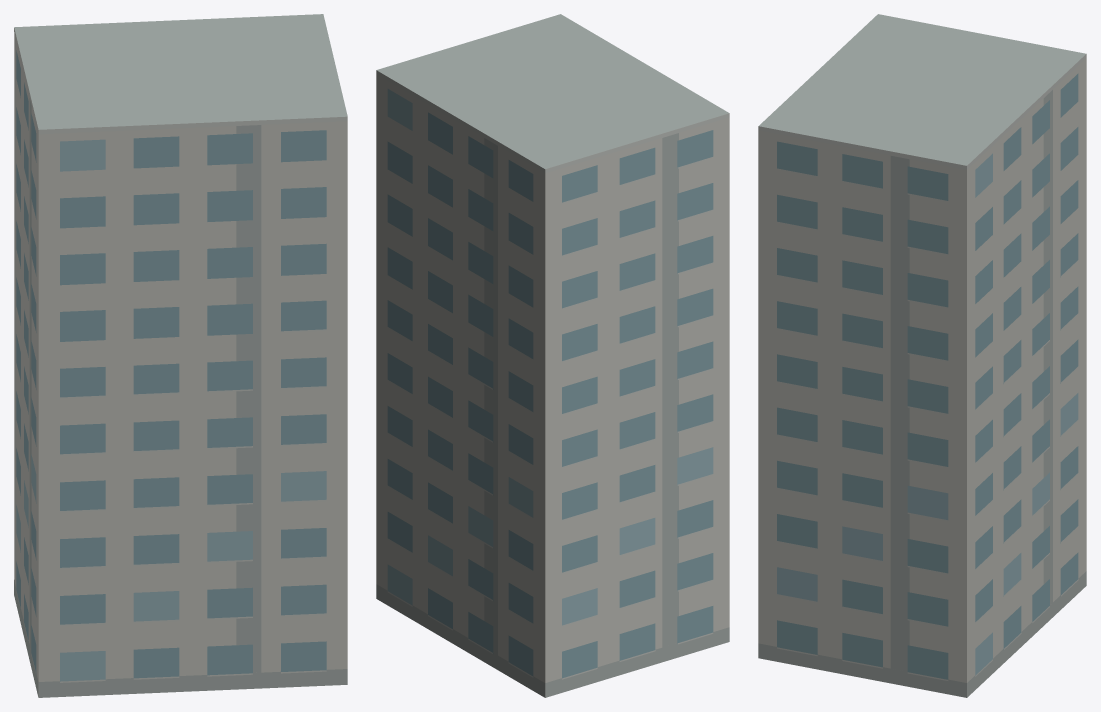
The model's file is residential-a2901d76-1c7a-438f-ab61-1f89b93b1a60.glb.
3 views of the same model, side by side, from view 1: azimuth 30°, elevation 25°; view 2: azimuth 150°, elevation 25°; view 3: azimuth 270°, elevation 25° (orthographic). The views are drawn at different scales.
Visible parts, largest first — view 1: residential-a2901d76-1c7a-438f-ab61-1f89b93b1a60.tmp; view 2: residential-a2901d76-1c7a-438f-ab61-1f89b93b1a60.tmp; view 3: residential-a2901d76-1c7a-438f-ab61-1f89b93b1a60.tmp.
Boxes of the visible parts, x1=… form: residential-a2901d76-1c7a-438f-ab61-1f89b93b1a60.tmp: x1=14, y1=14, x2=347, y2=697; residential-a2901d76-1c7a-438f-ab61-1f89b93b1a60.tmp: x1=376, y1=14, x2=729, y2=697; residential-a2901d76-1c7a-438f-ab61-1f89b93b1a60.tmp: x1=758, y1=14, x2=1086, y2=697.
Bounding box in the file's own units: 18.37 × 30 × 16.78.
